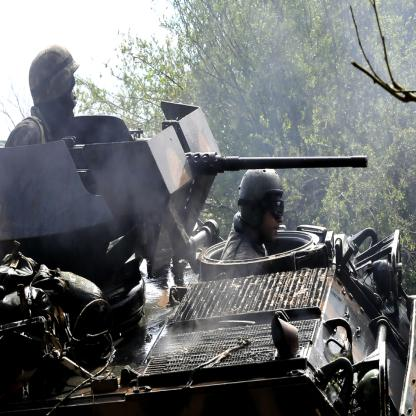Helmet: (236, 173, 298, 248), (28, 45, 79, 108)
